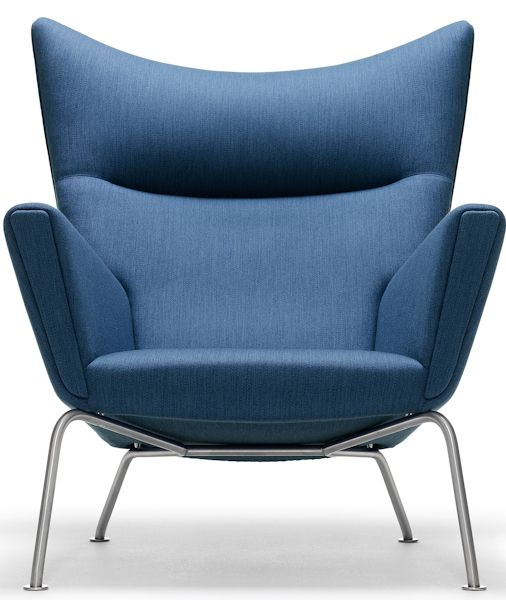chairs: (5, 14, 506, 595)
